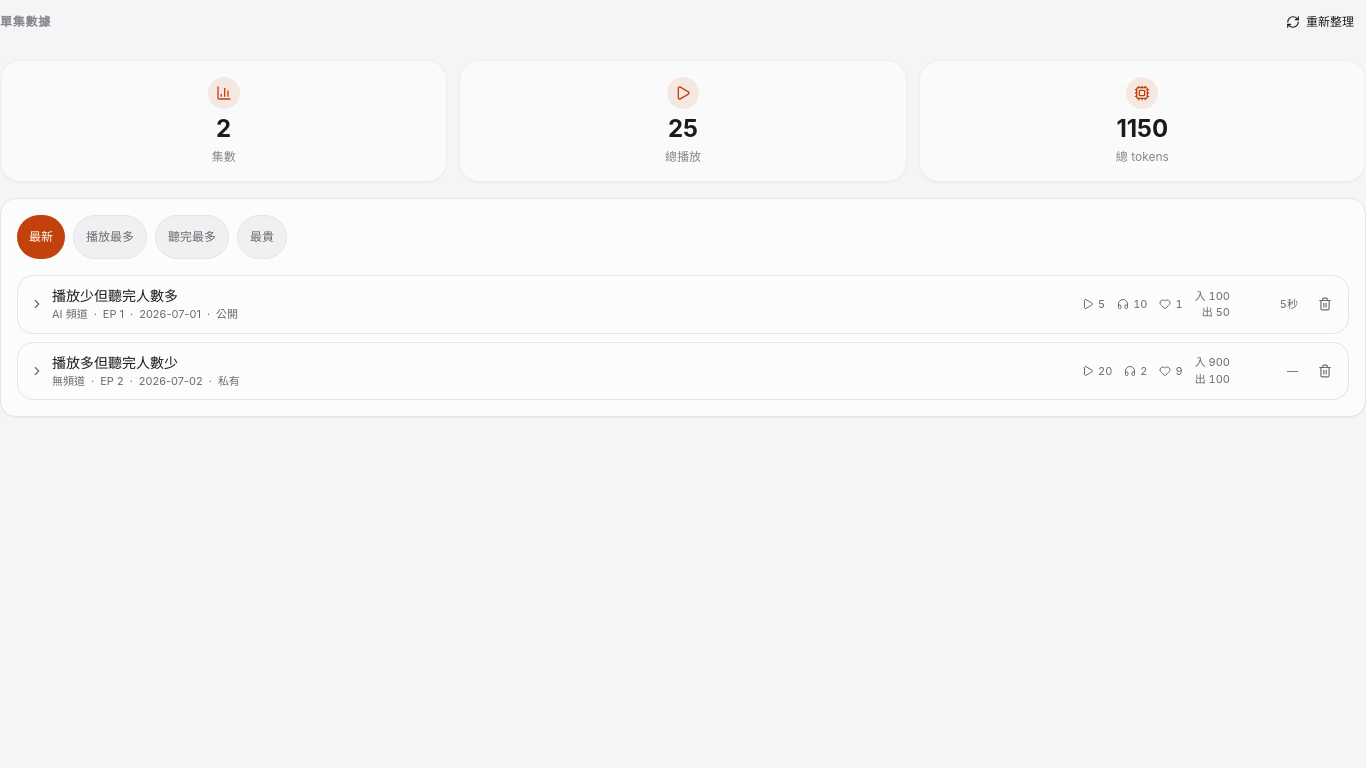
EpisodesPage › 點列開啟生成過程 dialog：抓明細、顯示 TTS 供應商與分階段耗時
Expected: the text "撰寫腳本" is not shown
What coordinates should you click on to do the following:
click the button "播放少但聽完人數多 AI 頻道·EP 1·2026-07-01·公開 5 10 1 入 100 出 50 5秒"
I would click on:
 (115, 296)
Its box is [18, 276, 1310, 332].
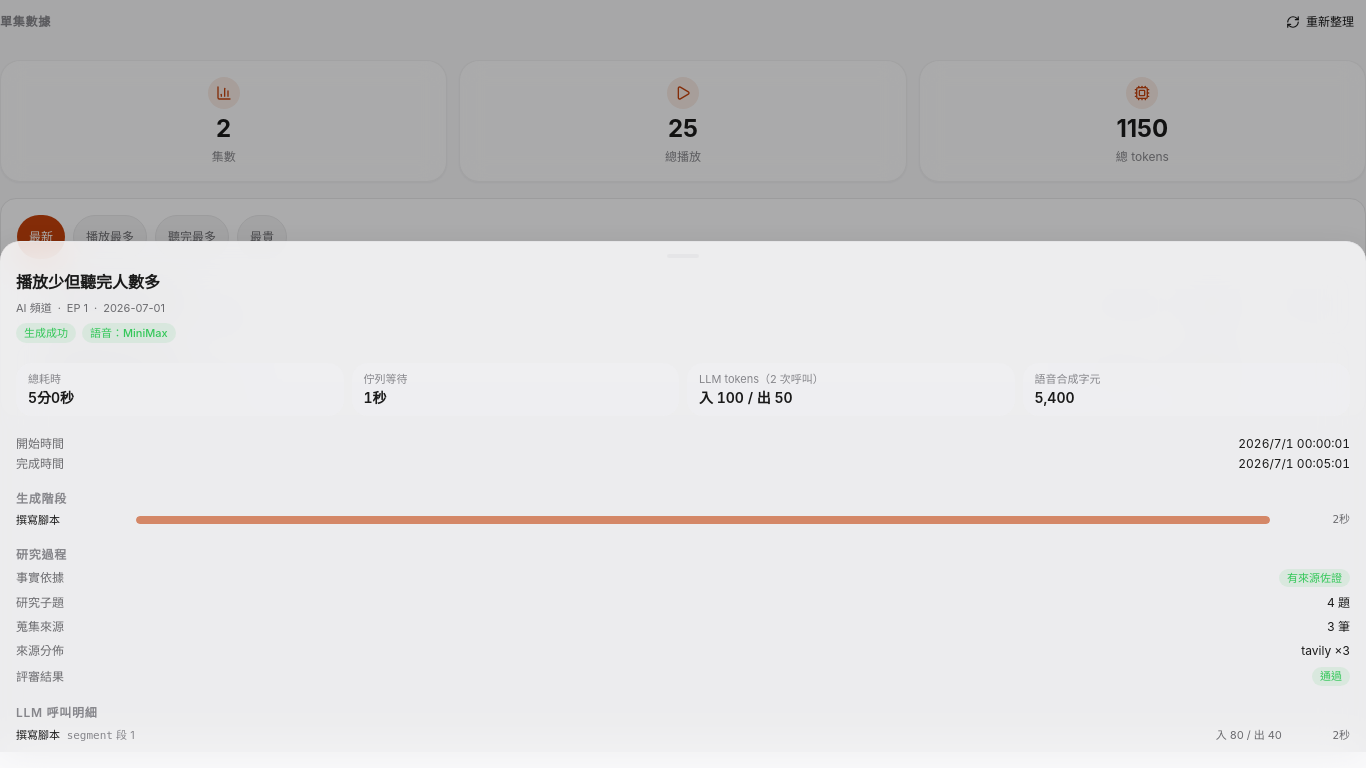
Result: the text "生成成功" is shown at [16, 322, 76, 343]
Result: the text "MiniMax" is shown at [123, 326, 168, 340]
Result: the text "撰寫腳本" is shown at [16, 513, 60, 527]
